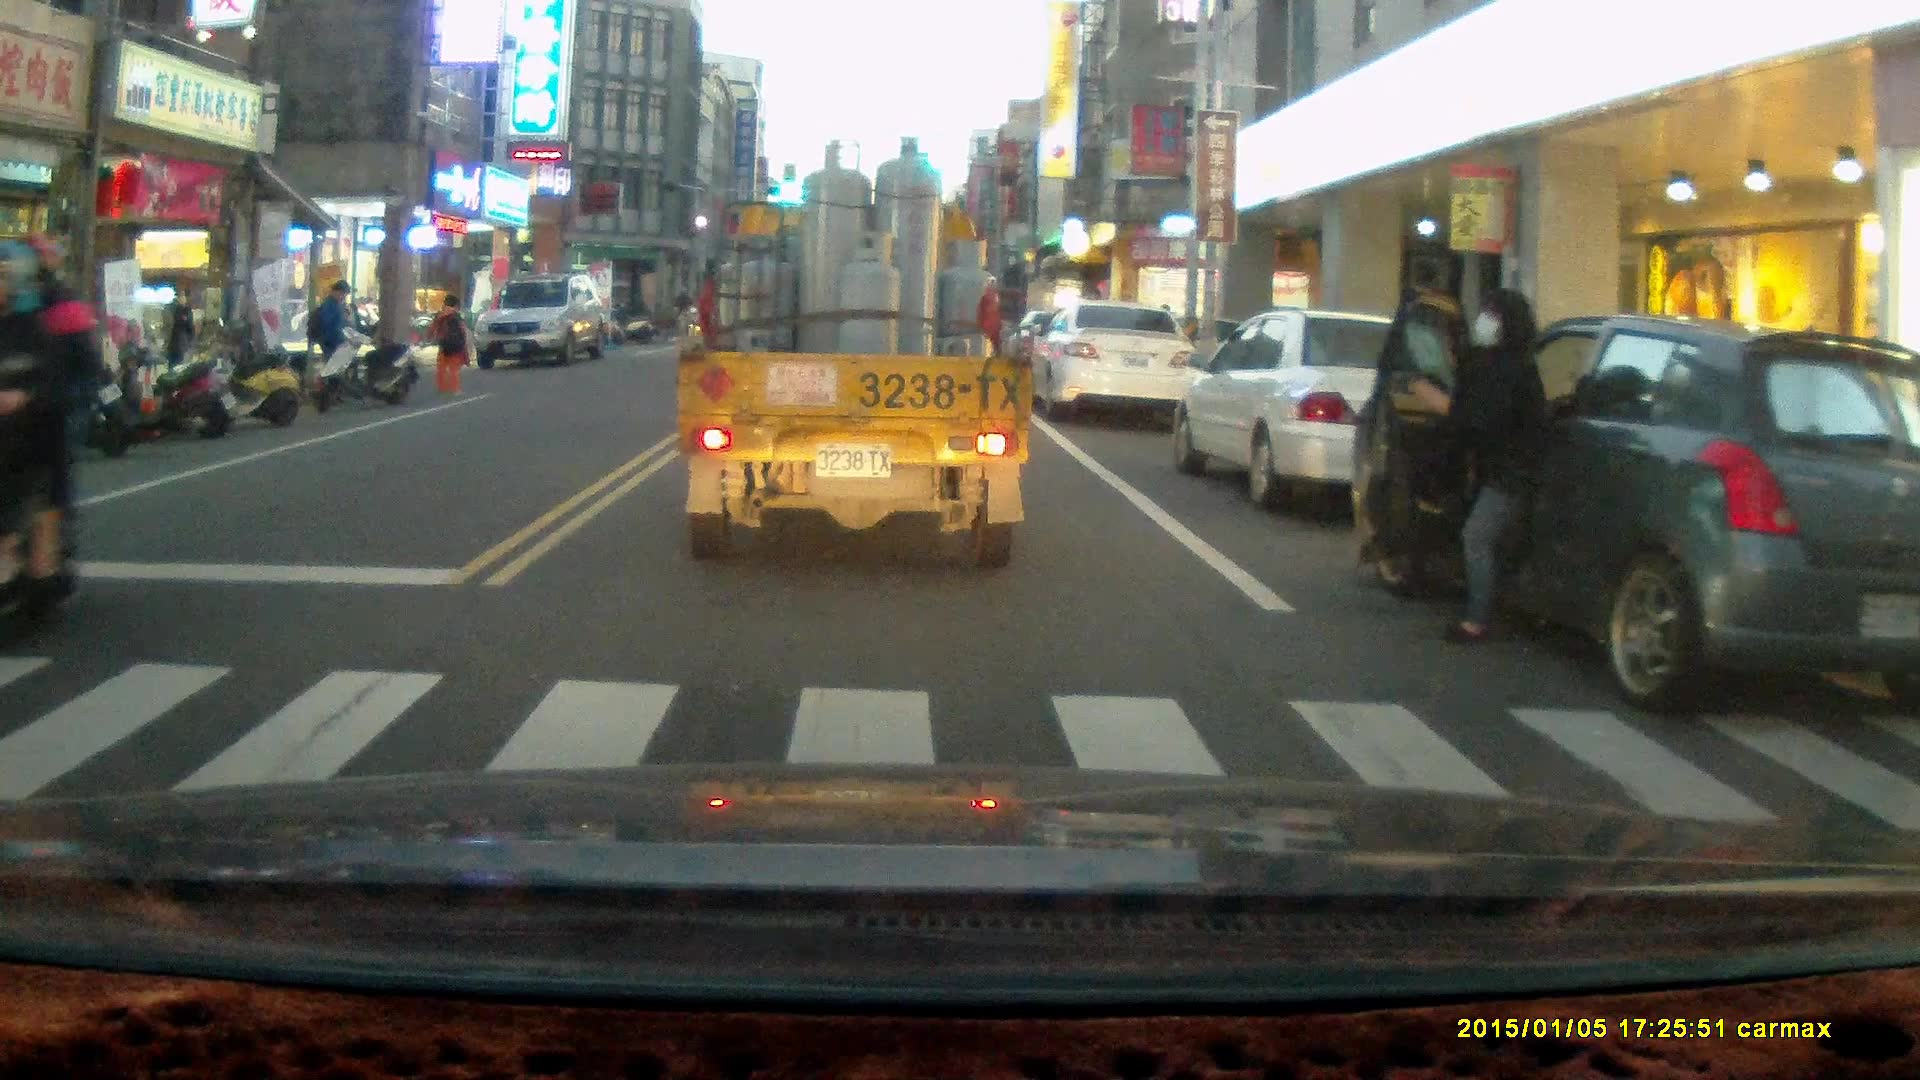pedestrian: (1409, 289, 1563, 648), (408, 290, 474, 392), (305, 278, 350, 399), (157, 284, 195, 401)
rider: (1, 229, 105, 651)
vehicle: (1363, 317, 1920, 712), (673, 132, 1037, 570), (1184, 313, 1521, 515), (1030, 300, 1205, 423), (474, 281, 609, 368)
